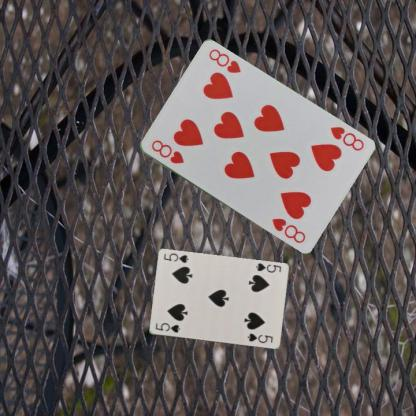5s: (152, 320, 181, 334), (253, 260, 282, 274)
8h: (327, 124, 365, 152), (148, 137, 185, 165)
